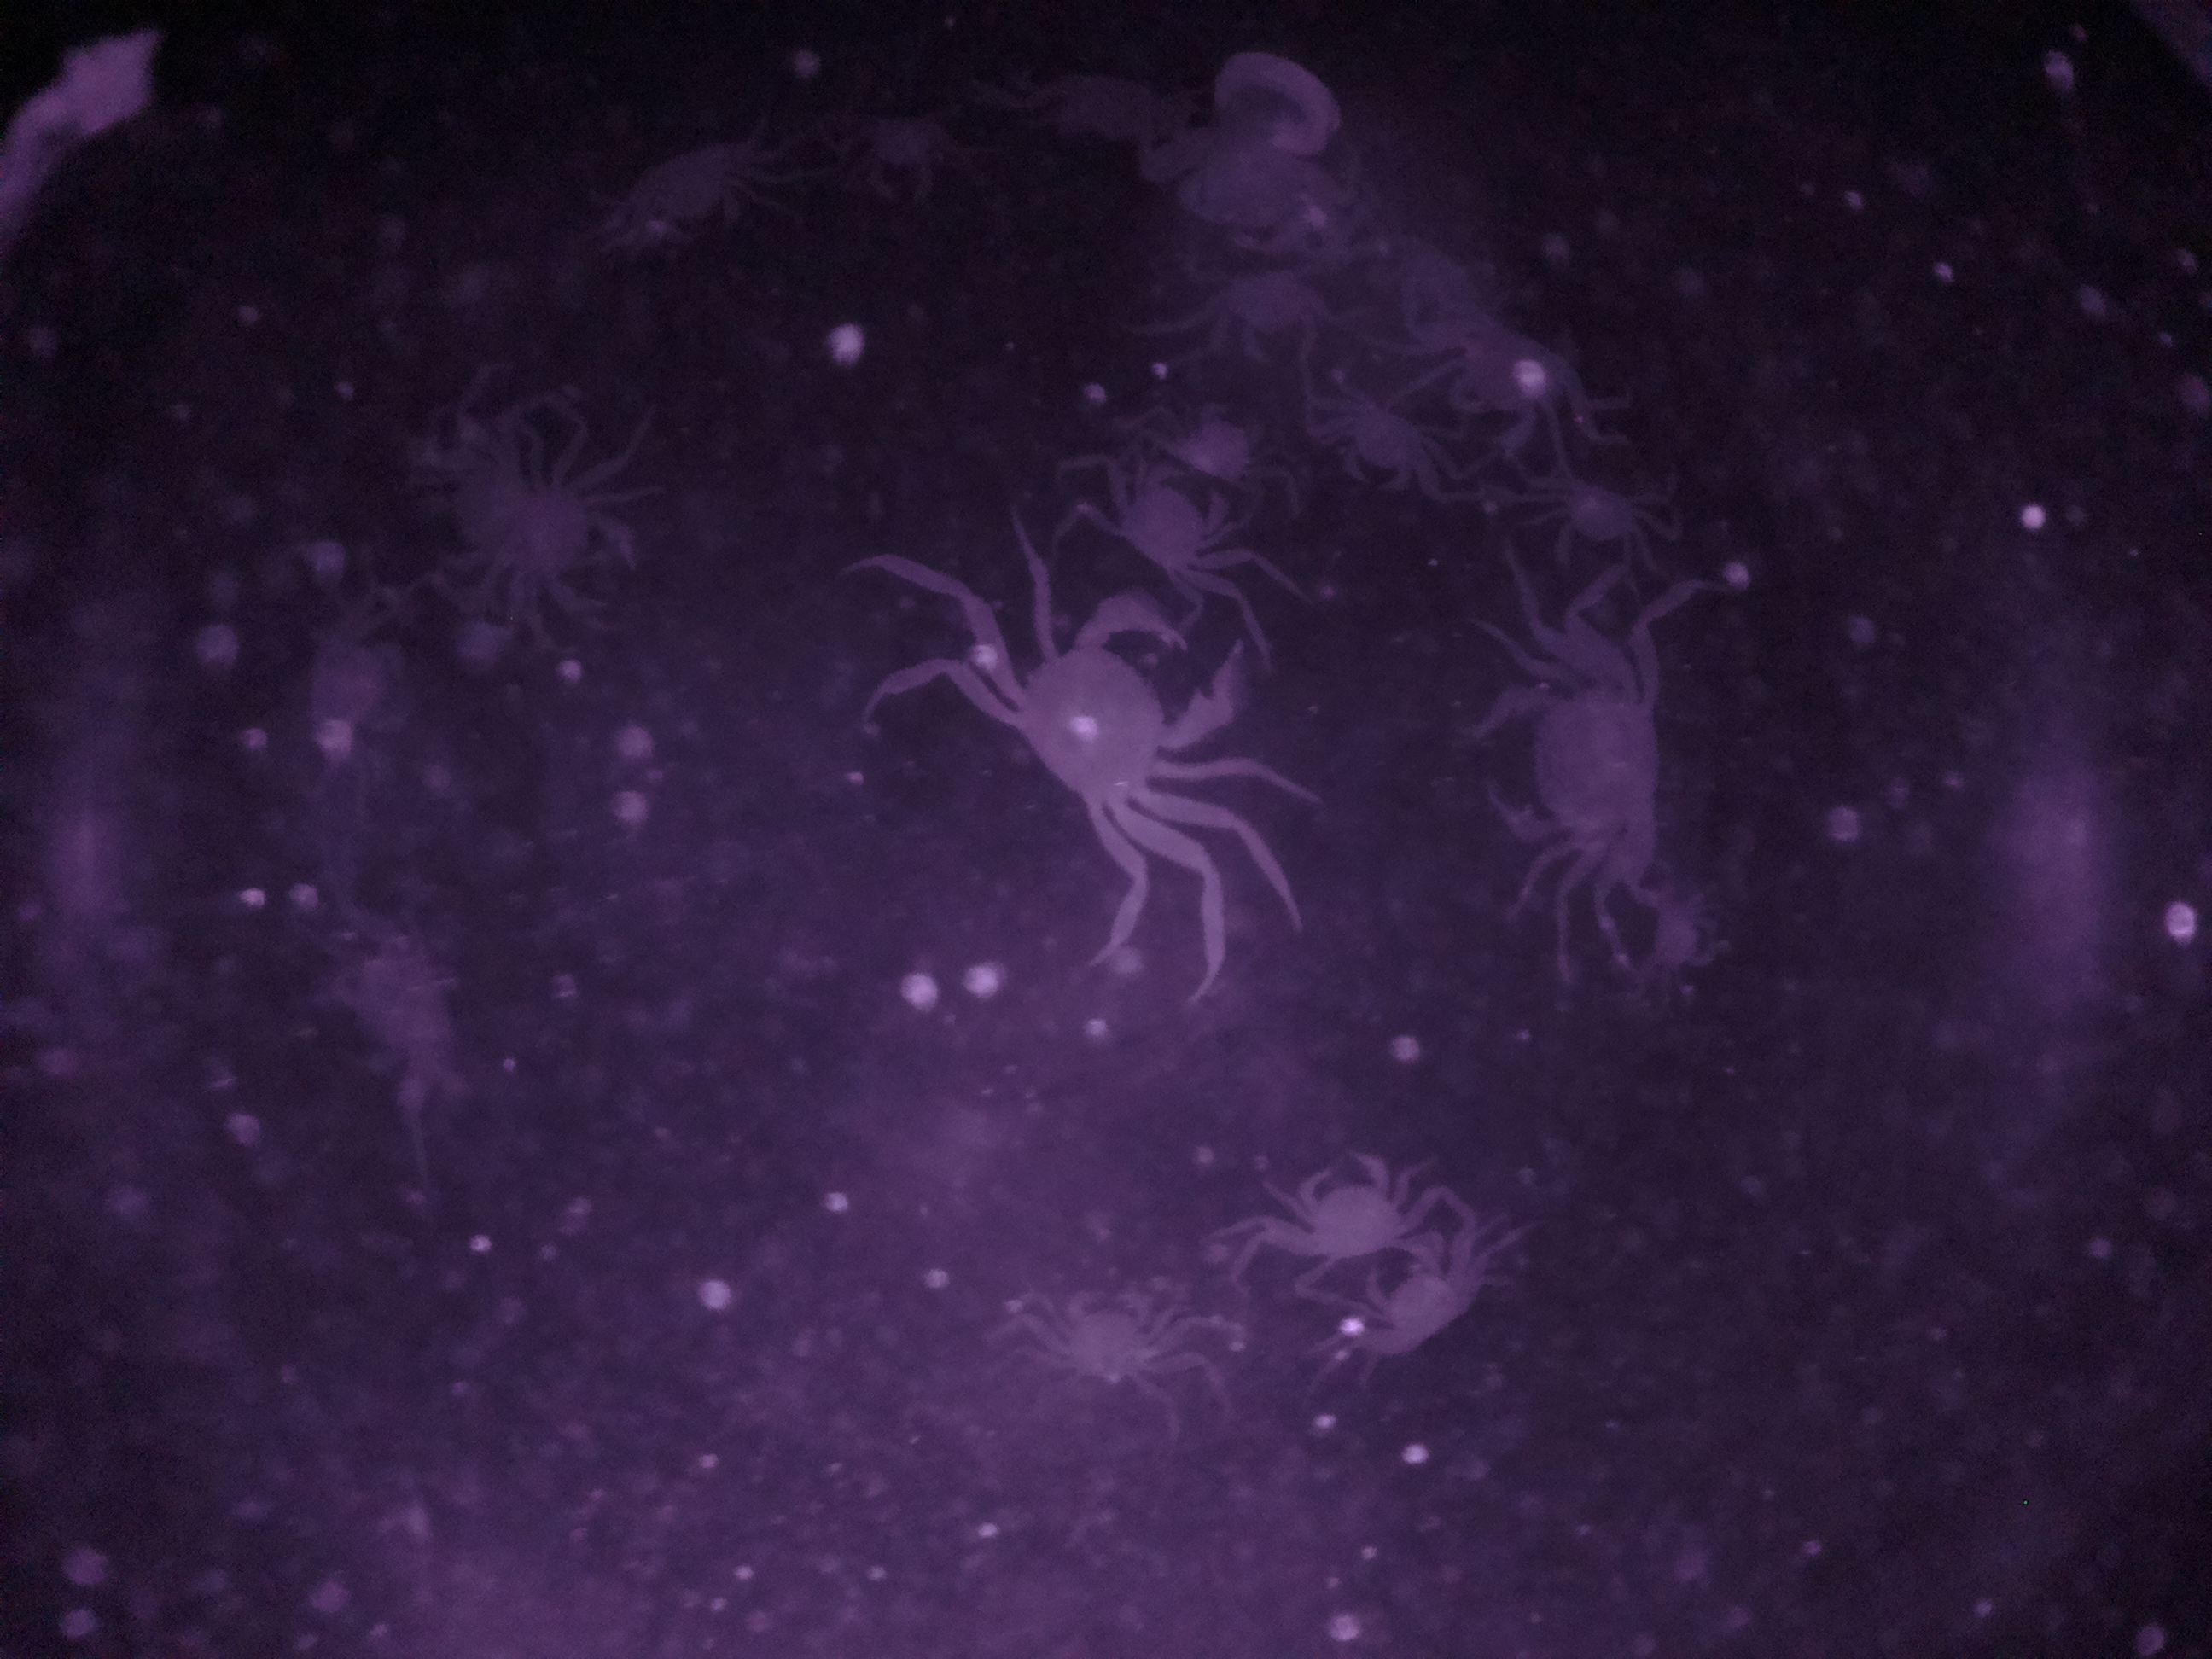Crab: (968, 598, 1254, 863), (1480, 631, 1679, 875), (1085, 441, 1258, 596), (1338, 1225, 1491, 1373), (1198, 246, 1359, 383), (1258, 1148, 1426, 1276), (1024, 1276, 1191, 1396), (1317, 383, 1468, 505), (1522, 464, 1683, 577)
